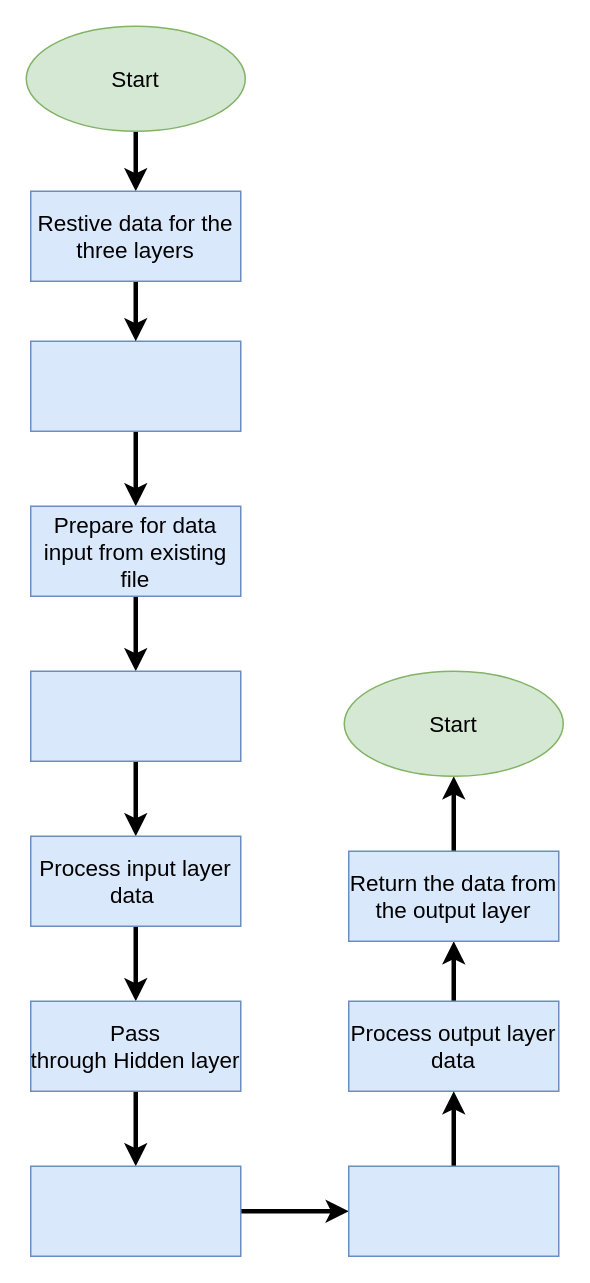
The diagram is 590 pixels wide and 1283 high, and some of its shapes have lost their labels. The box of each missing label's shape, as (x1, y1, x2, y2) in pixels:
Create network object.: (29, 340, 241, 431)
Pass through input layer: (29, 670, 241, 761)
Pass through output layer: (347, 1165, 559, 1256)
Process Hidden layer data: (29, 1165, 241, 1256)
